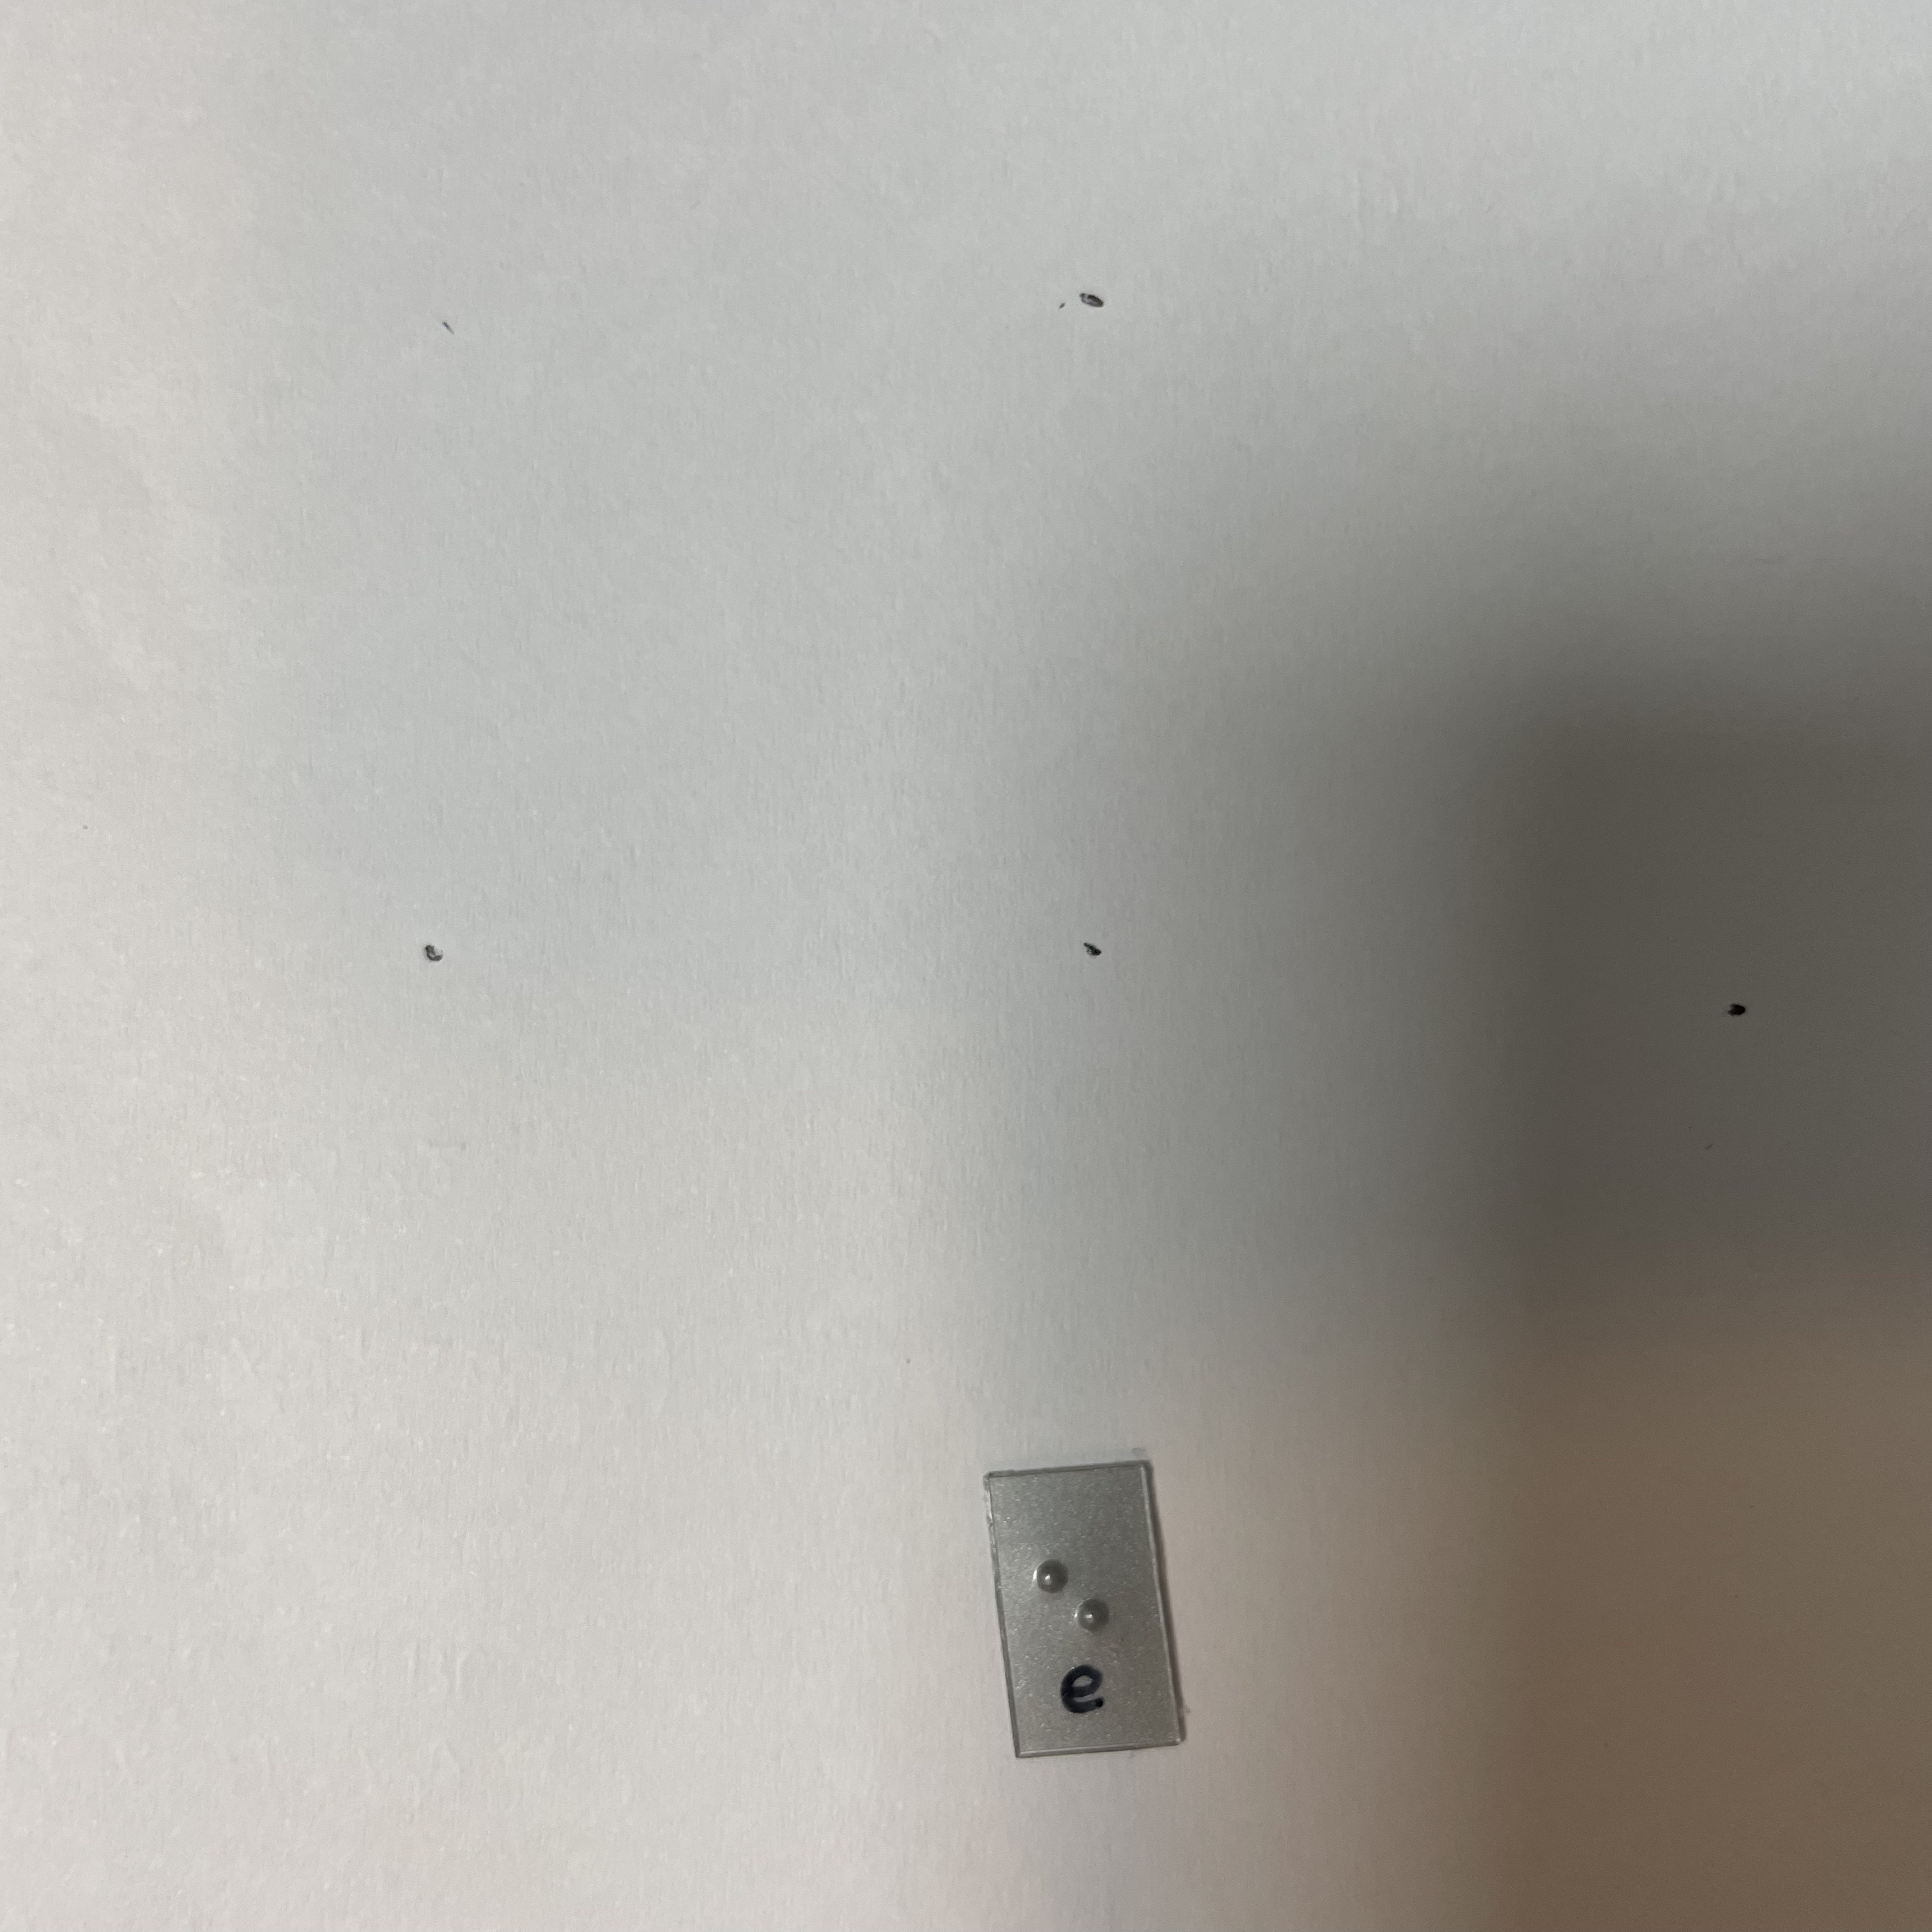e: (1020, 1548, 1124, 1680)
